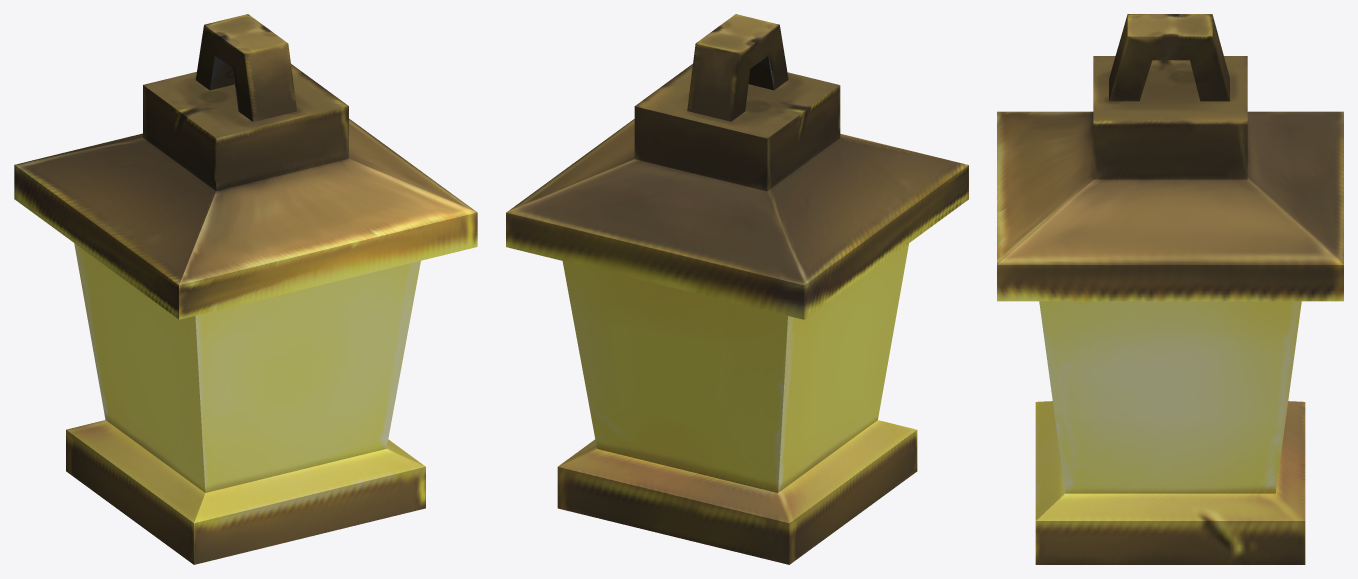
File: 04_lamp.FBX
3 renders of one model, left to right at view 1: azimuth 30°, elevation 25°; view 2: azimuth 150°, elevation 25°; view 3: azimuth 270°, elevation 25°, orthographic. The views are drawn at different scales.
Parts seen in each view (by area): view 1: 04_lamp; view 2: 04_lamp; view 3: 04_lamp.
Part boxes in pixels (x1,y1,x2,y2): 04_lamp: (14,14,477,564); 04_lamp: (506,14,968,564); 04_lamp: (997,14,1343,564).
Bounding box in the file's own units: 32.94 × 48.08 × 31.47.
